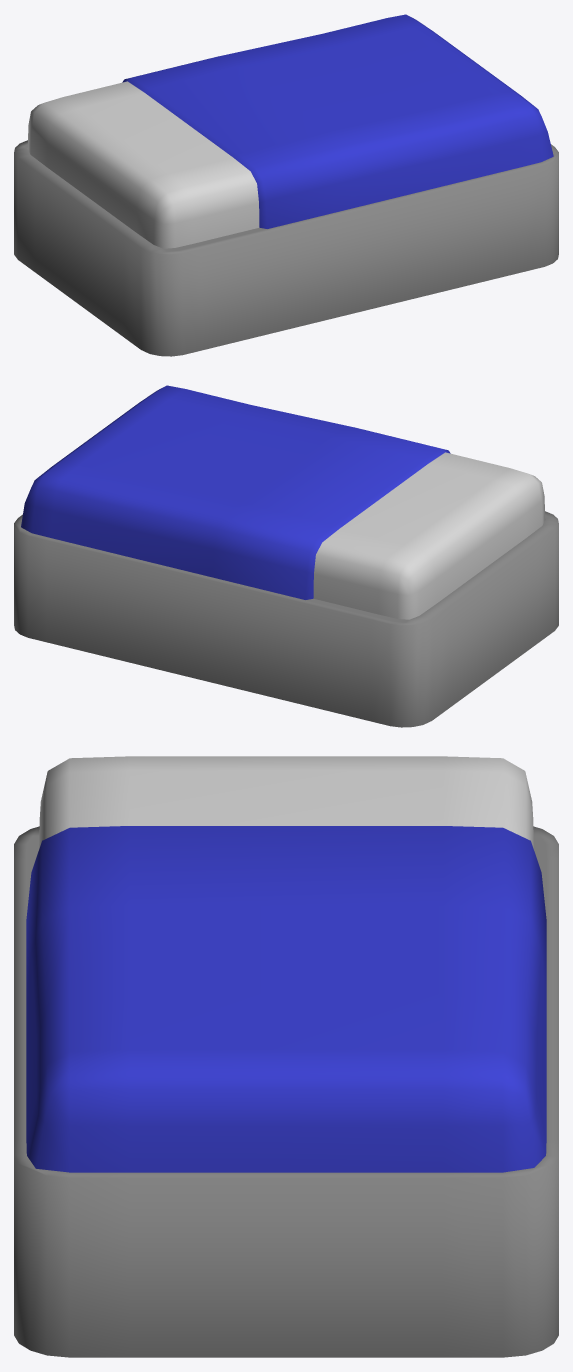
The model's file is Bed.fbx.
3 renders of one model, top to bottom at view 1: azimuth 30°, elevation 25°; view 2: azimuth 150°, elevation 25°; view 3: azimuth 270°, elevation 25°, orthographic. The views are drawn at different scales.
Visible parts, largest first — view 1: Bed; view 2: Bed; view 3: Bed.
Part boxes in pixels (<box>): Bed: <box>14,14,558,356</box>; Bed: <box>14,385,558,727</box>; Bed: <box>14,756,558,1357</box>.
Size of the model in its own units: 212 by 76.25 by 138.
